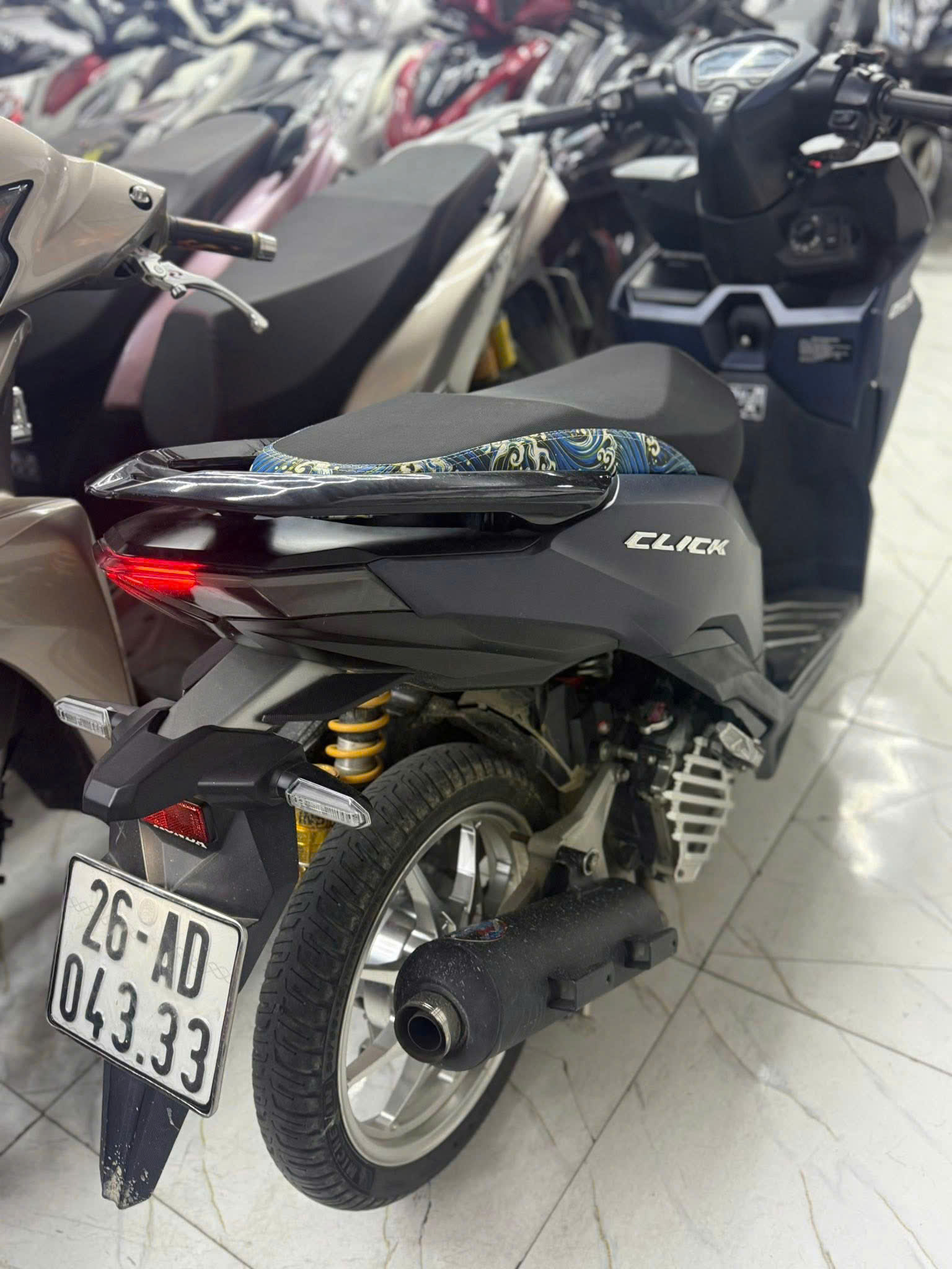Bien-so: (37, 847, 242, 1114)
